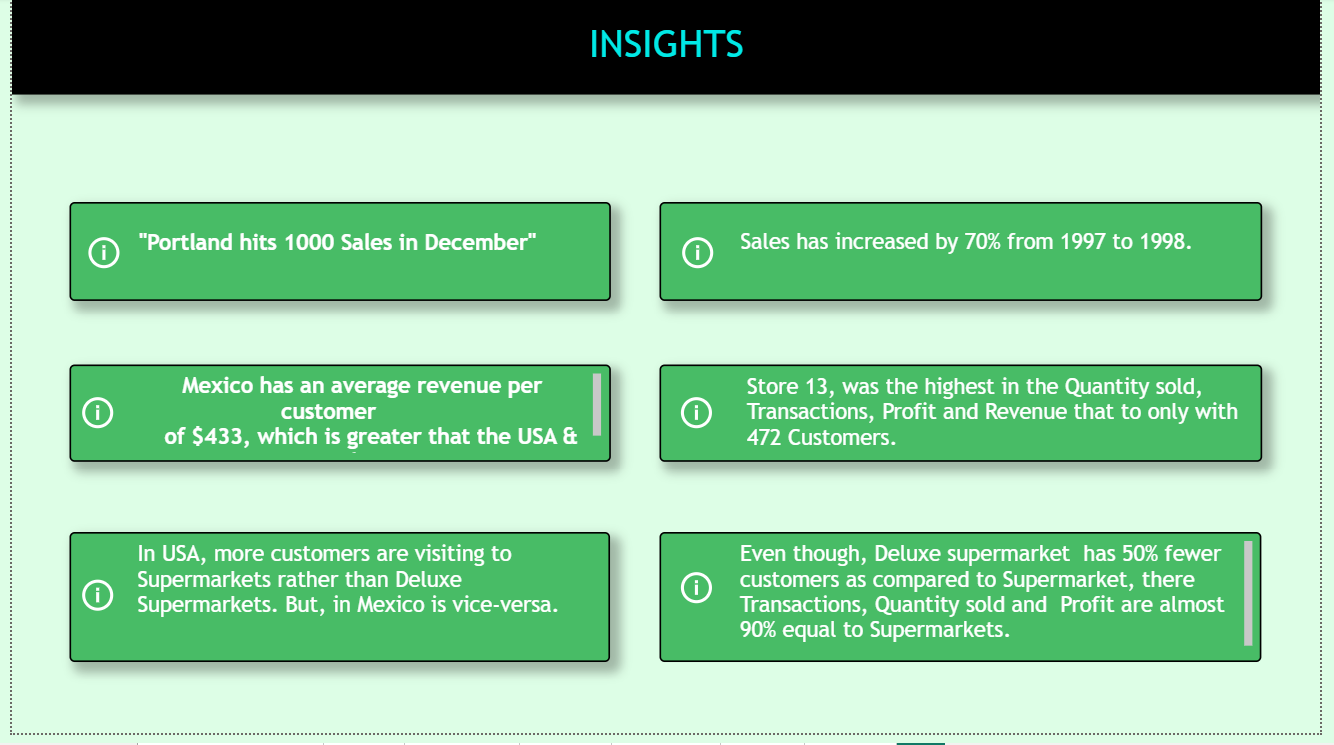

Layout of this report page (visuals, bound fields, positions):
{"tool":"powerbi","page":{"name":"Notes","canvas":[1280,720],"ordinal":6},"visuals":[{"type":"textbox","box":[56.7,200.8,529.5,97.2],"z":0},{"type":"actionButton","box":[69.6,229.9,43.7,40.5],"z":1000},{"type":"textbox","box":[56.7,359.5,529.5,95.5],"z":2000},{"type":"actionButton","box":[63.1,387,50.2,40.5],"z":3000},{"type":"textbox","box":[633.2,523.6,589,127.4],"z":4000},{"type":"textbox","box":[633.1,200.8,589.4,97.2],"z":5000},{"type":"textbox","box":[633.1,359.5,589.4,95.5],"z":6000},{"type":"textbox","box":[56.6,523.6,528.9,127.4],"z":7000},{"type":"textbox","box":[0,0,1280.6,95.5],"z":8000},{"type":"actionButton","box":[63.1,565.1,50.2,40.5],"z":9000},{"type":"actionButton","box":[650.9,229.9,50.2,40.5],"z":10000},{"type":"actionButton","box":[649.3,387,50.2,40.5],"z":11000},{"type":"actionButton","box":[649.3,557,50.2,40.5],"z":12000}]}

Visuals, with their boxes in screenshot pixels (x1, y1, x2, y2), scaled from the page's 1280x720 canvas onto the 1334x745 screenshot:
textbox: pyautogui.locateOnScreen(59, 208, 611, 308)
actionButton: pyautogui.locateOnScreen(73, 238, 118, 280)
textbox: pyautogui.locateOnScreen(59, 372, 611, 471)
actionButton: pyautogui.locateOnScreen(66, 400, 118, 442)
textbox: pyautogui.locateOnScreen(660, 542, 1274, 674)
textbox: pyautogui.locateOnScreen(660, 208, 1274, 308)
textbox: pyautogui.locateOnScreen(660, 372, 1274, 471)
textbox: pyautogui.locateOnScreen(59, 542, 610, 674)
textbox: pyautogui.locateOnScreen(0, 0, 1333, 99)
actionButton: pyautogui.locateOnScreen(66, 585, 118, 627)
actionButton: pyautogui.locateOnScreen(678, 238, 731, 280)
actionButton: pyautogui.locateOnScreen(677, 400, 729, 442)
actionButton: pyautogui.locateOnScreen(677, 576, 729, 618)
